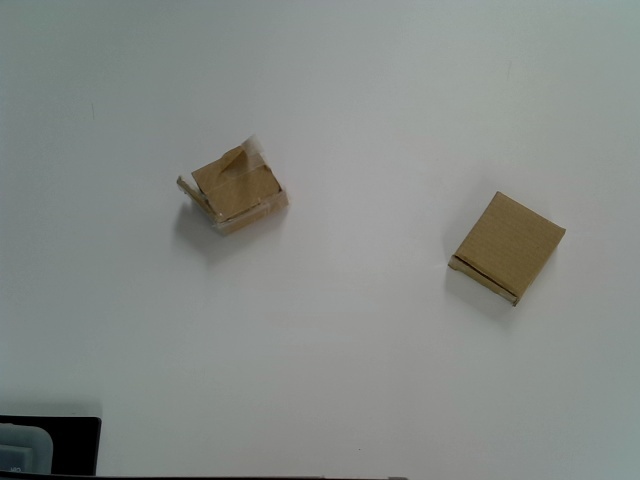defect: (178, 133, 288, 237)
normal: (447, 191, 566, 307)
